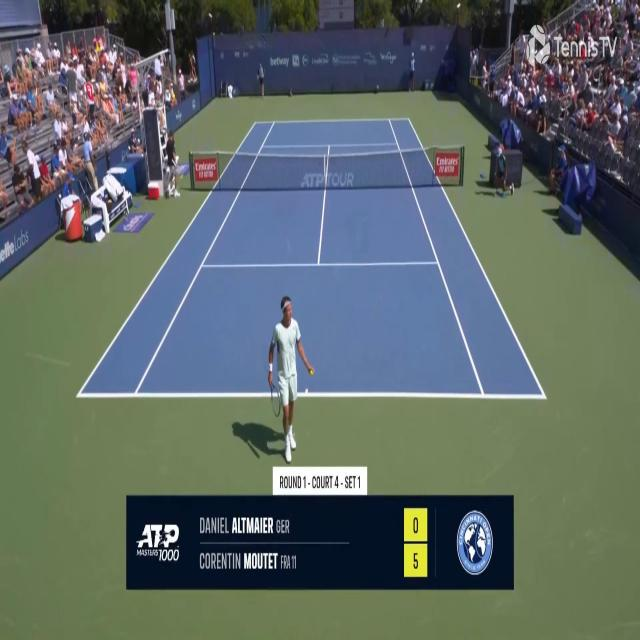tennis-player: (266, 293, 316, 464), (164, 127, 182, 204)
